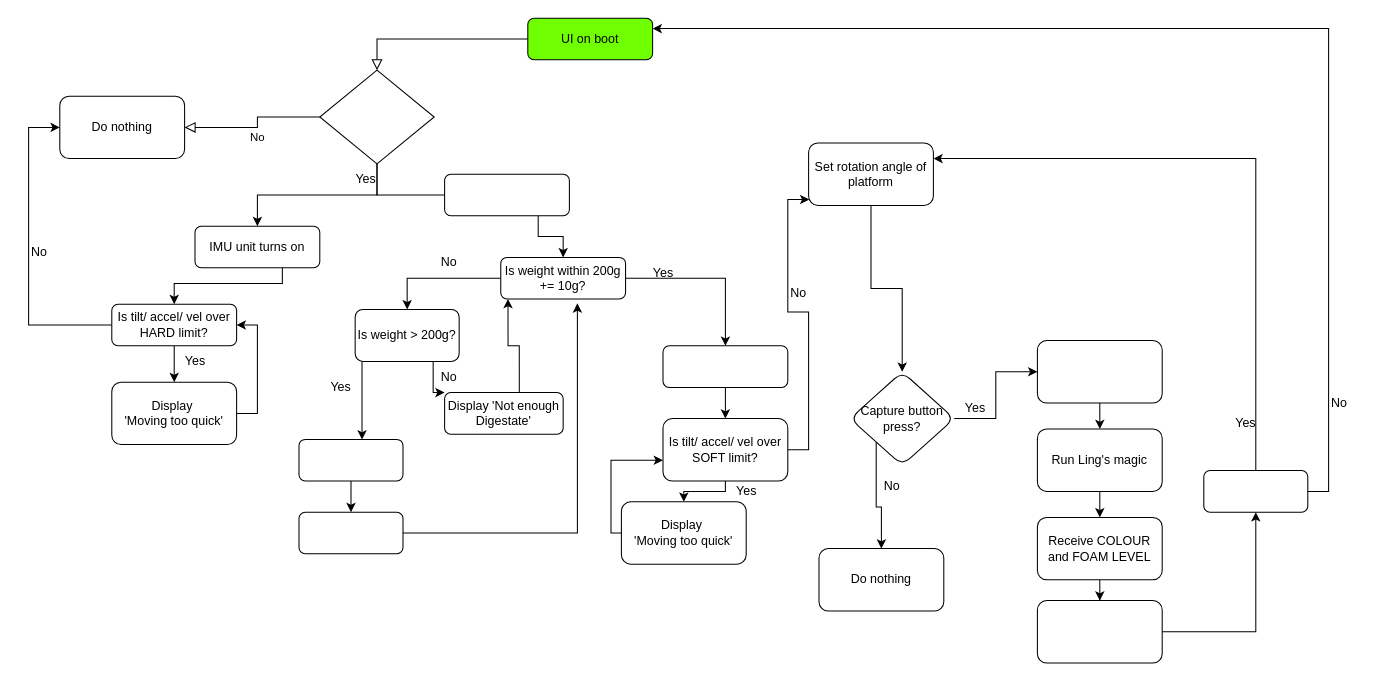
This 1377x681 diagram has some shape labels left out. The shapes that lost their labels are listed below. From the top down, each one's centre as x and y in pixels, then its label:
[376,116]: Sampling Mode Selected
[506,194]: Load cell turns on
[725,366]: Off load cell, IMU unit turns on
[1099,371]: Camera turn on and take photo
[350,459]: Display 'Too much Digestate'
[1255,491]: Take another photo?
[350,532]: Empty flask and refill
[1099,631]: Display results
